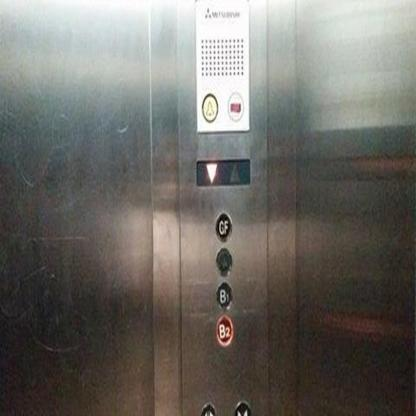B1: (215, 278, 234, 311)
B2: (213, 310, 235, 350)
GF: (213, 210, 233, 244)
alarm: (199, 90, 220, 125)
blur: (214, 245, 233, 278)
led: (196, 159, 250, 186)
unknown: (226, 88, 245, 123)
